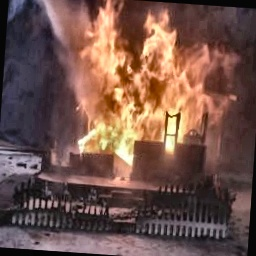fire: (56, 0, 236, 173)
